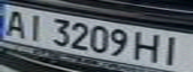0: (87, 22, 112, 55)
2: (66, 19, 90, 52)
3: (45, 16, 72, 48)
9: (106, 26, 133, 59)
A: (0, 7, 30, 38)
H: (133, 29, 166, 63)
I: (157, 34, 190, 65), (21, 11, 48, 42)
